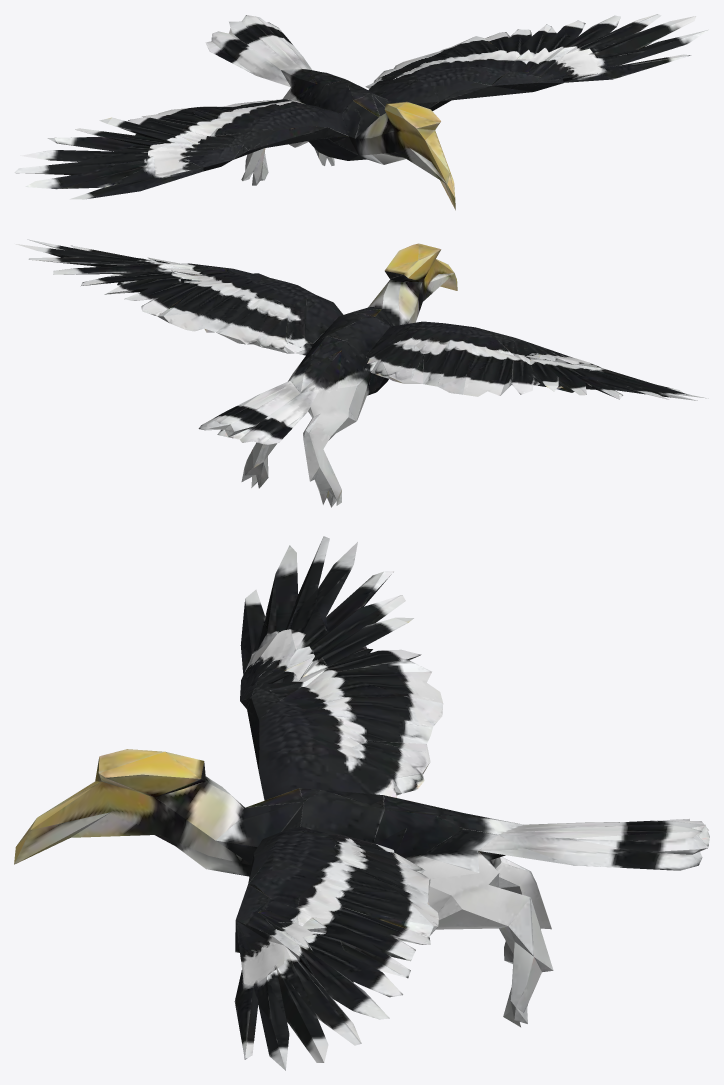
The model's file is hornbill.glb.
3 views of the same model, one above another, from view 1: azimuth 30°, elevation 25°; view 2: azimuth 150°, elevation 25°; view 3: azimuth 270°, elevation 25° (orthographic). The views are drawn at different scales.
Parts seen in each view (by area): view 1: output_unwrapped; view 2: output_unwrapped; view 3: output_unwrapped.
Part boxes in pixels (bbox=[...]): output_unwrapped: bbox=[14, 14, 709, 210]; output_unwrapped: bbox=[15, 239, 708, 507]; output_unwrapped: bbox=[14, 536, 709, 1070].
Size of the model in its own units: 1 by 0.2163 by 0.5734.
Materials: 1 (1 with a texture image).
